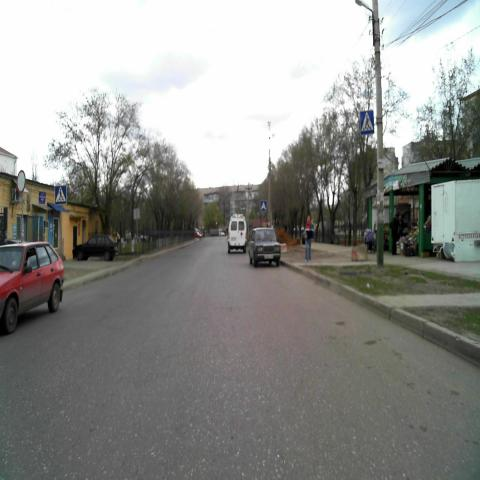3_2: (16, 170, 26, 192)
